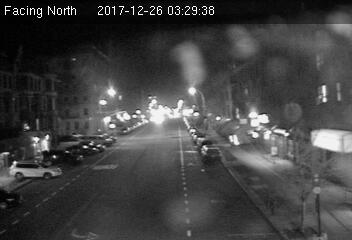car: (200, 142, 222, 161)
